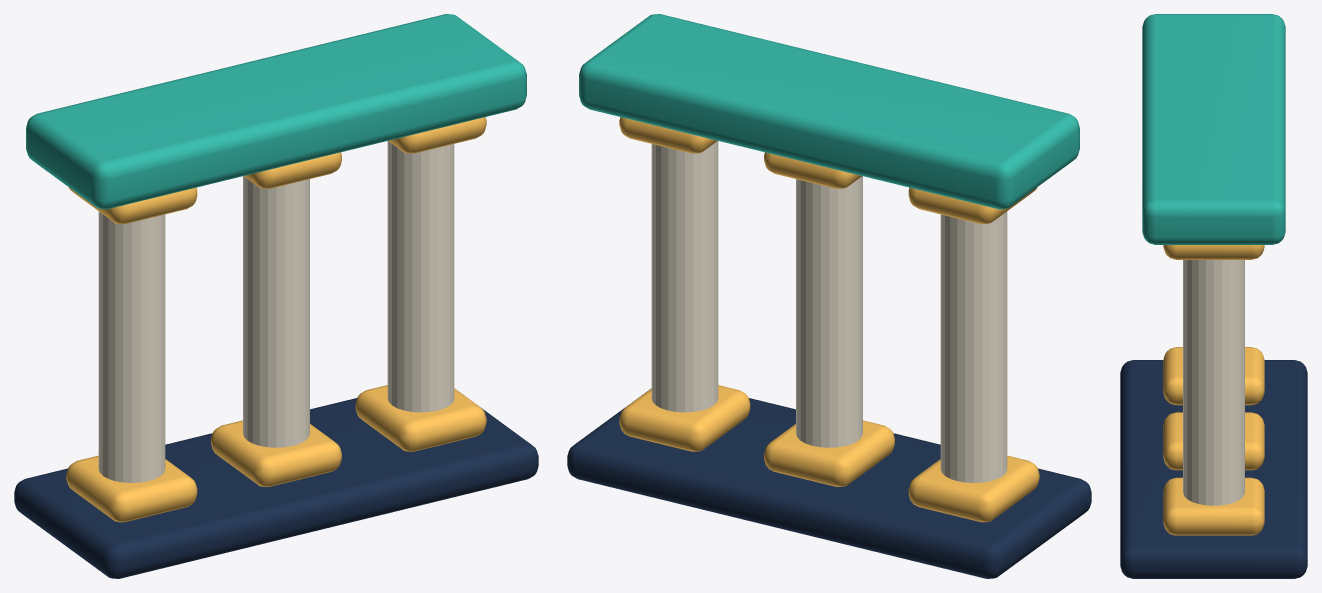
File: EDU007.glb
3 renders of one model, left to right at view 1: azimuth 30°, elevation 25°; view 2: azimuth 150°, elevation 25°; view 3: azimuth 270°, elevation 25°, orthographic. The views are drawn at different scales.
Parts seen in each view (by area): view 1: Entablature, Foundation, Column, Column.002, Column.001, Capital.004, Capital, Capital.002, Capital.001, Capital.005, Capital.003; view 2: Entablature, Foundation, Column, Column.002, Column.001, Capital.004, Capital, Capital.002, Capital.001, Capital.005, Capital.003; view 3: Entablature, Foundation, Column.002, Capital.004, Capital, Capital.002, Capital.005.
Part boxes in pixels (x1=…): Entablature: x1=26, y1=14, x2=526, y2=209; Foundation: x1=14, y1=391, x2=538, y2=578; Column: x1=98, y1=211, x2=165, y2=482; Column.002: x1=387, y1=141, x2=454, y2=412; Column.001: x1=243, y1=176, x2=309, y2=447; Capital.004: x1=355, y1=385, x2=486, y2=451; Capital: x1=66, y1=455, x2=197, y2=522; Capital.002: x1=211, y1=420, x2=341, y2=486; Capital.001: x1=68, y1=187, x2=197, y2=224; Capital.005: x1=388, y1=117, x2=486, y2=153; Capital.003: x1=244, y1=152, x2=341, y2=188; Entablature: x1=579, y1=14, x2=1079, y2=209; Foundation: x1=567, y1=391, x2=1091, y2=578; Column: x1=940, y1=211, x2=1007, y2=482; Column.002: x1=651, y1=141, x2=718, y2=412; Column.001: x1=796, y1=176, x2=862, y2=447; Capital.004: x1=619, y1=385, x2=750, y2=451; Capital: x1=908, y1=455, x2=1039, y2=522; Capital.002: x1=764, y1=420, x2=894, y2=486; Capital.001: x1=908, y1=187, x2=1037, y2=224; Capital.005: x1=619, y1=117, x2=717, y2=153; Capital.003: x1=764, y1=152, x2=861, y2=188; Entablature: x1=1142, y1=14, x2=1285, y2=244; Foundation: x1=1120, y1=360, x2=1307, y2=578; Column.002: x1=1183, y1=260, x2=1244, y2=505; Capital.004: x1=1163, y1=477, x2=1264, y2=535; Capital: x1=1163, y1=347, x2=1264, y2=405; Capital.002: x1=1163, y1=412, x2=1264, y2=470; Capital.005: x1=1163, y1=245, x2=1264, y2=259.
Bounding box in the file's own units: 2.1 × 1.89 × 0.85.
